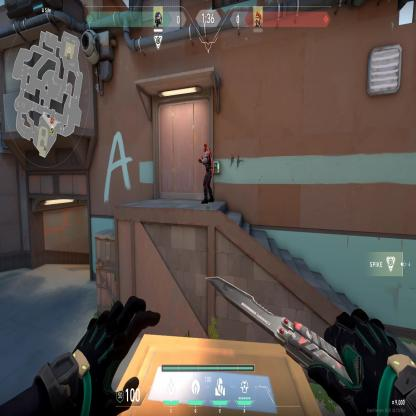enemy: (197, 142, 214, 206)
